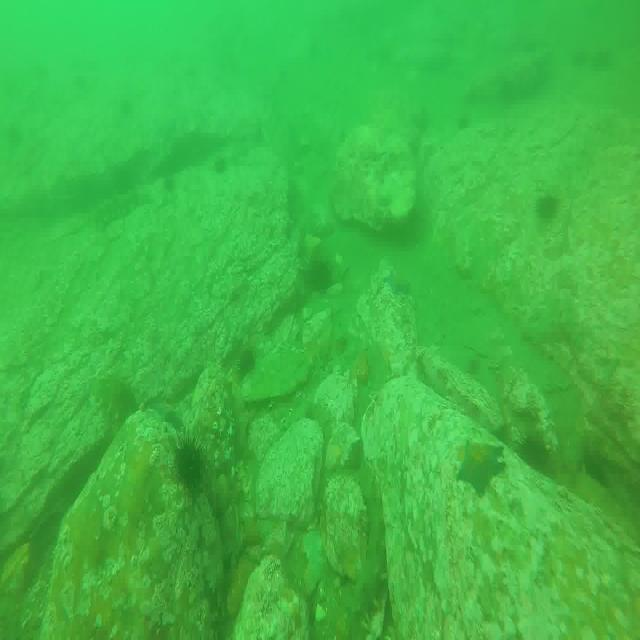echinus: (175, 433, 207, 488), (519, 430, 553, 481), (308, 257, 331, 294), (535, 194, 559, 222), (236, 348, 258, 378)
holothurian: (353, 529, 393, 626)
starfish: (455, 438, 504, 497), (383, 269, 412, 298)
